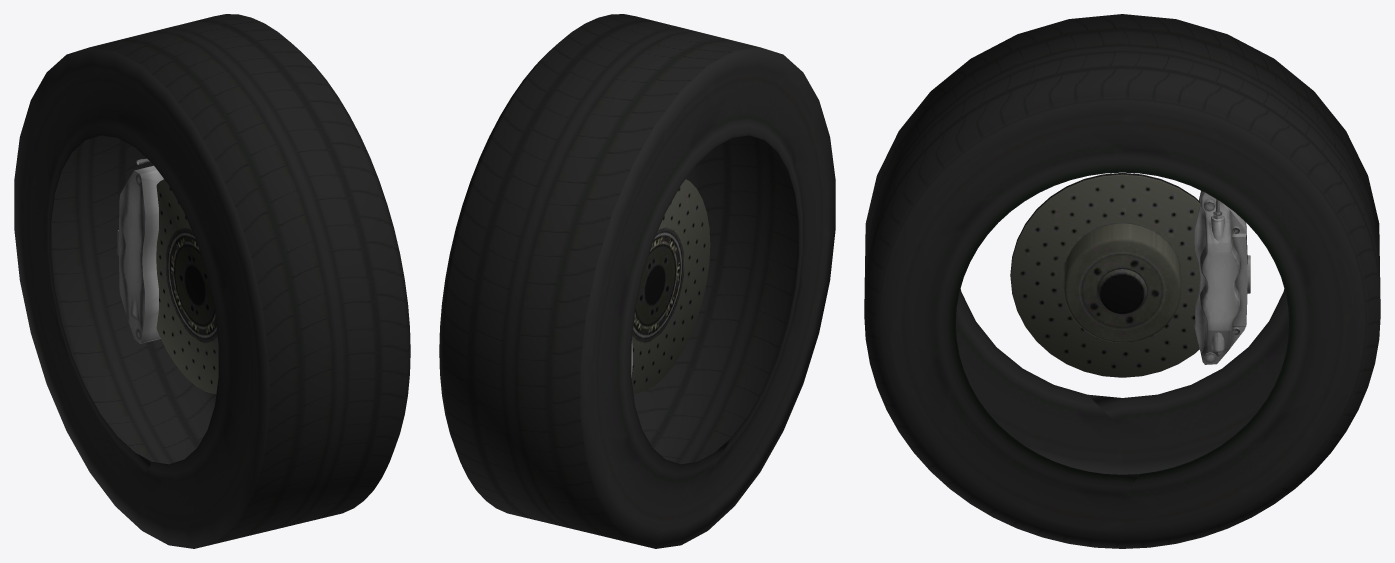
File: 16inches.fbx
3 renders of one model, left to right at view 1: azimuth 30°, elevation 25°; view 2: azimuth 150°, elevation 25°; view 3: azimuth 270°, elevation 25°, orthographic.
Parts seen in each view (by area): view 1: 16inches, disk, brake_disk; view 2: 16inches, disk; view 3: 16inches, disk, brake_disk.
Boxes of the visible parts, x1,y1,x2,y2 form: 16inches: (14, 14, 410, 548); disk: (156, 179, 218, 393); brake_disk: (117, 158, 163, 343); 16inches: (439, 14, 835, 548); disk: (631, 179, 710, 393); 16inches: (864, 14, 1380, 548); disk: (1010, 173, 1200, 377); brake_disk: (1194, 191, 1250, 364).
Size of the model in its own units: 0.2248 by 0.6198 by 0.6198.
